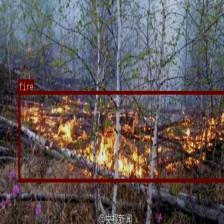fire: (18, 90, 224, 182)
